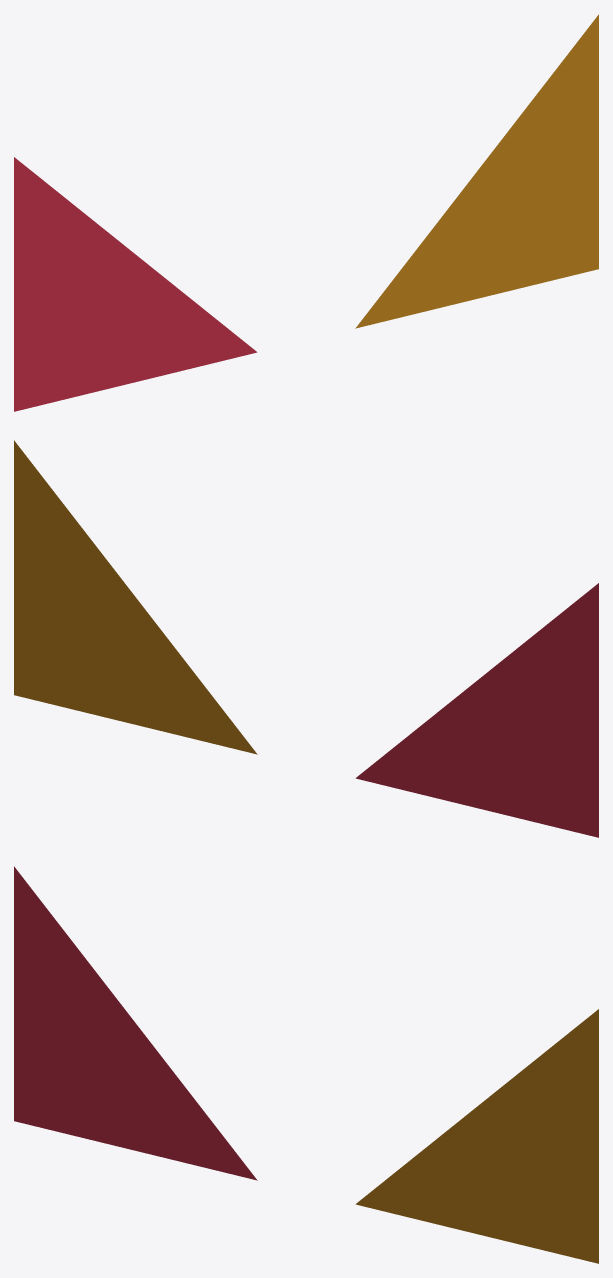
The model's file is DetailFixture.fbx.
The picture shows the model from 3 angles, top to bottom: view 1: azimuth 30°, elevation 25°; view 2: azimuth 150°, elevation 25°; view 3: azimuth 330°, elevation 25°; orthographic projection.
Visible parts, largest first — view 1: TwoMaterialDetail; view 2: TwoMaterialDetail; view 3: TwoMaterialDetail.
Part boxes in pixels (x1,y1,x2,y2): TwoMaterialDetail: (14, 14, 598, 411); TwoMaterialDetail: (14, 440, 598, 837); TwoMaterialDetail: (14, 866, 598, 1263).
Bounding box in the file's own units: 0.24 × 0.1 × 0.
